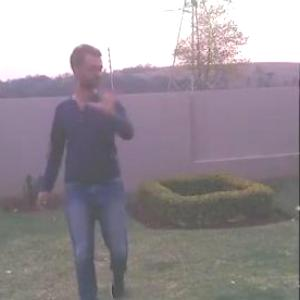follow_hand: (87, 71, 128, 116)
